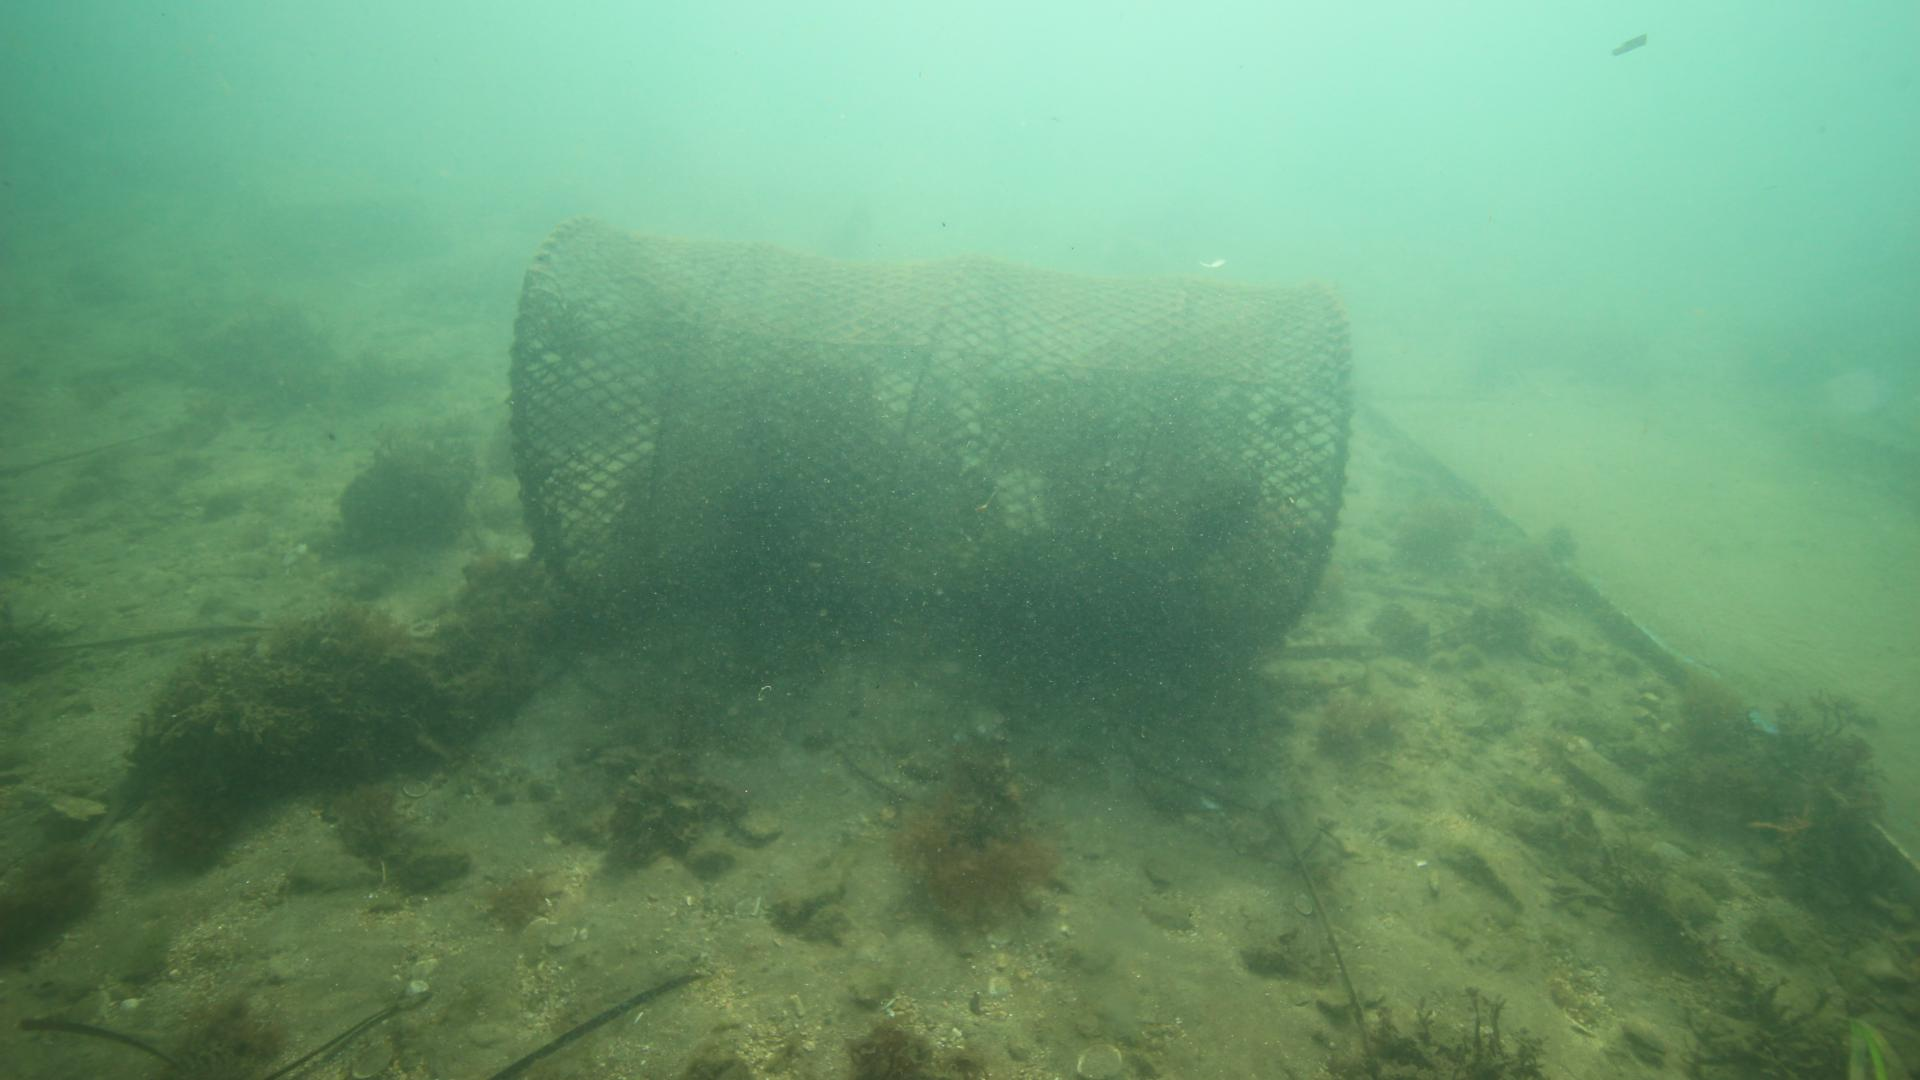spring fish trap: (505, 210, 1353, 649)
